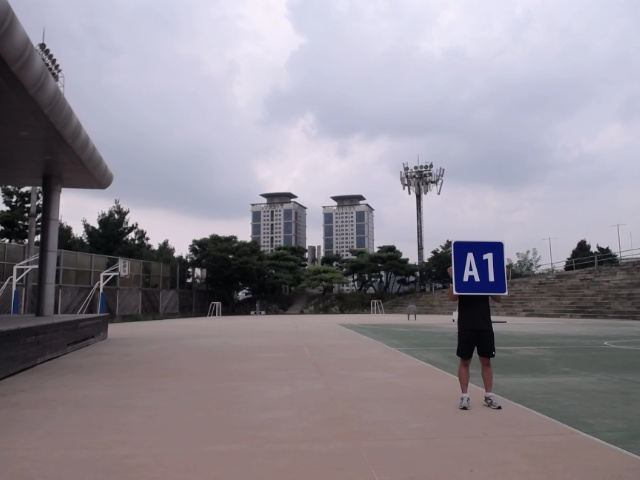delivery_a1: (453, 240, 507, 295)
